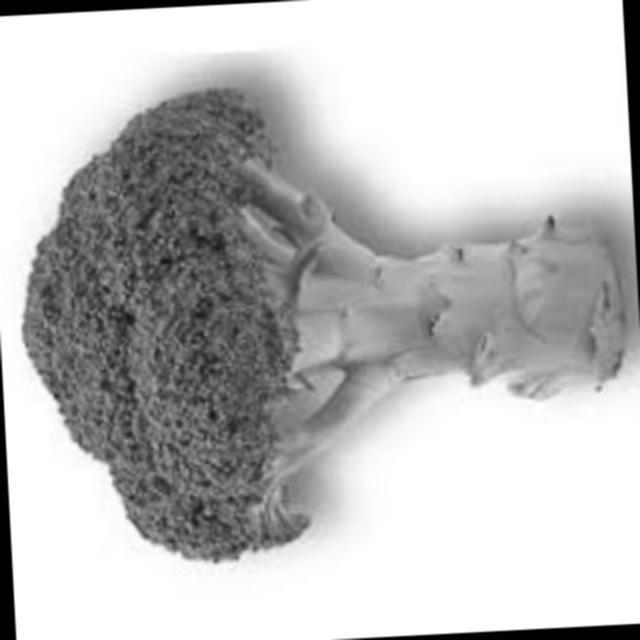broccoli: (3, 45, 640, 578)
